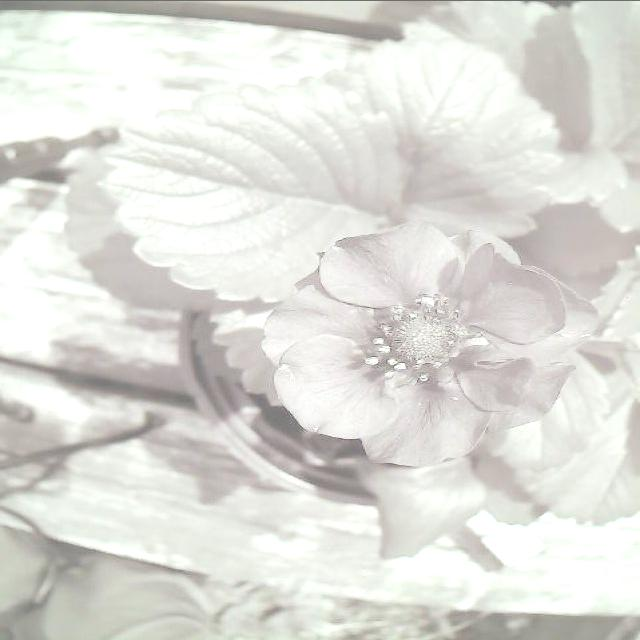flower: (258, 222, 600, 470)
